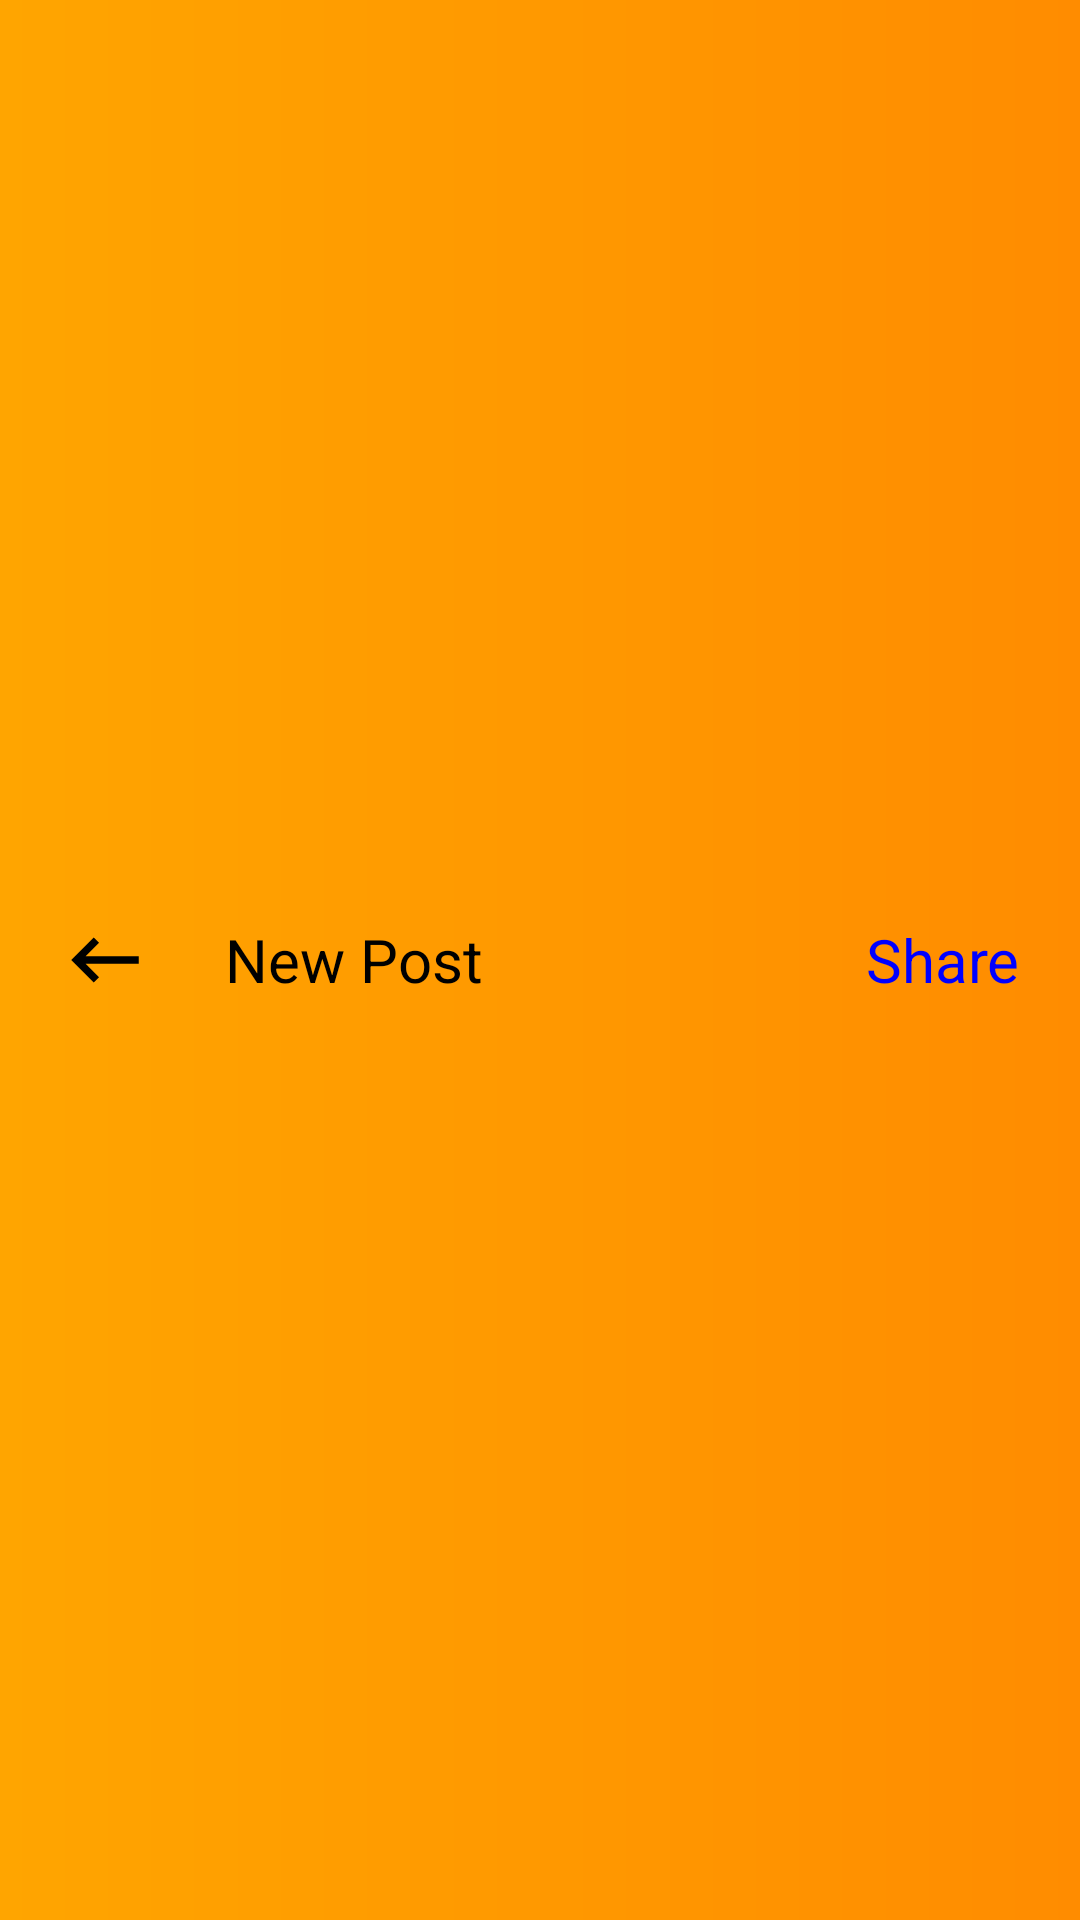

Locate icon controls on the screen. Image size 1080 × 1920, boxes as (x1, y1, x2, y2).
back: (71, 937, 139, 983)
